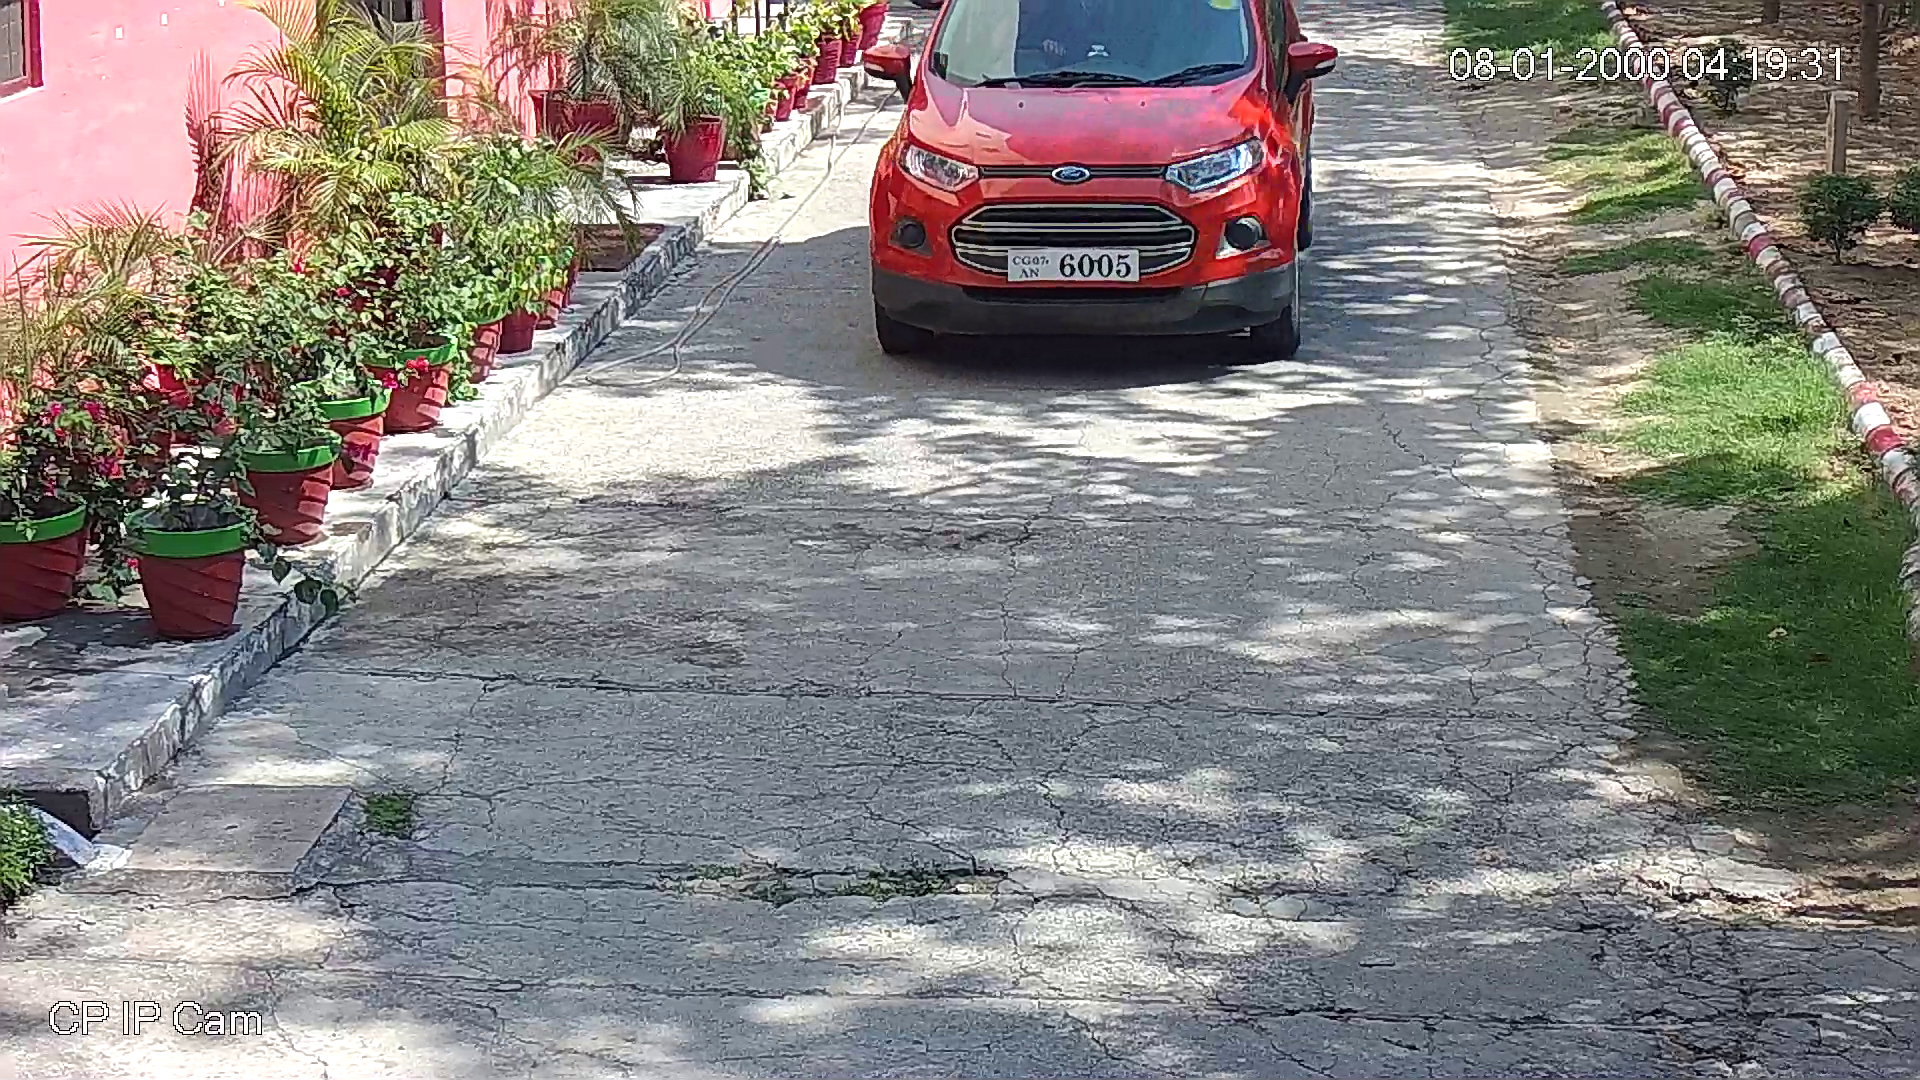plate: (1005, 243, 1145, 287)
